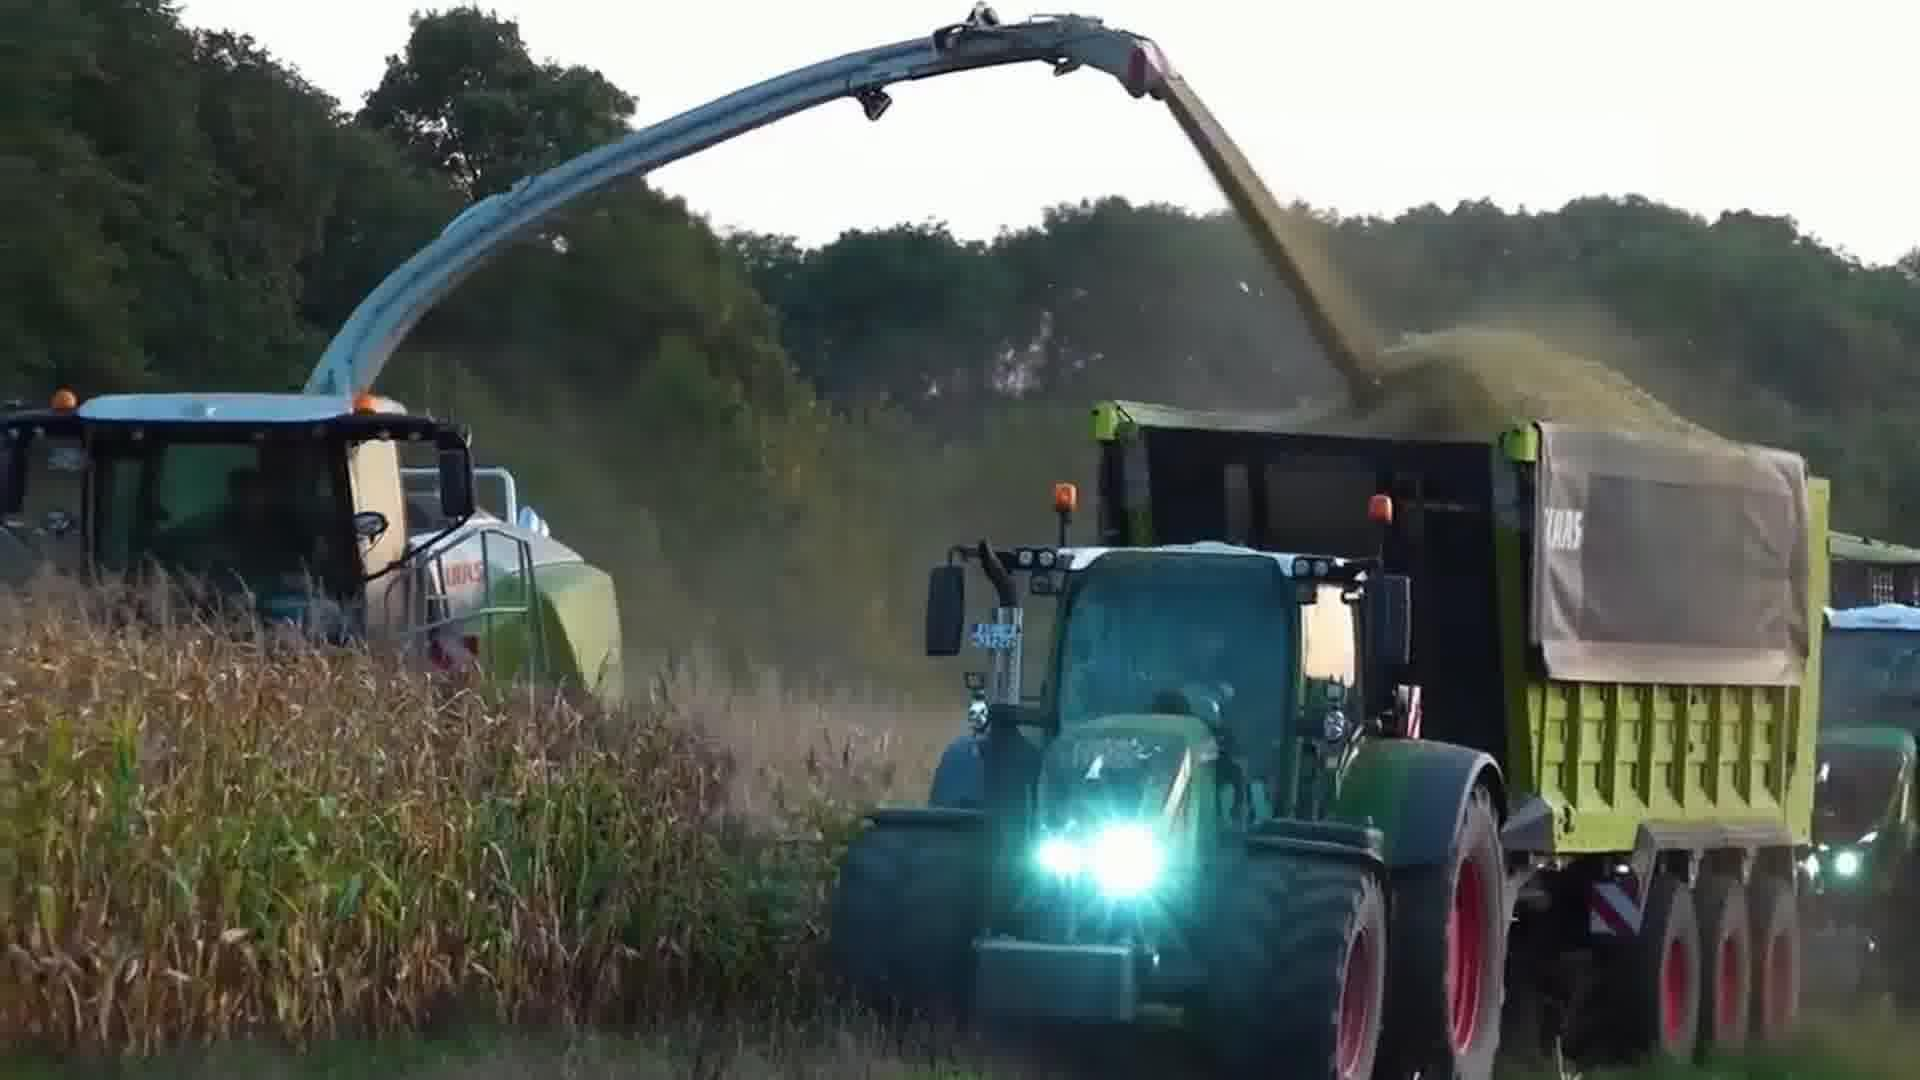combine harvester: (0, 3, 1183, 782)
tractor: (807, 468, 1520, 1080), (1815, 600, 1920, 1040)
trailer: (1085, 360, 1845, 1063)
